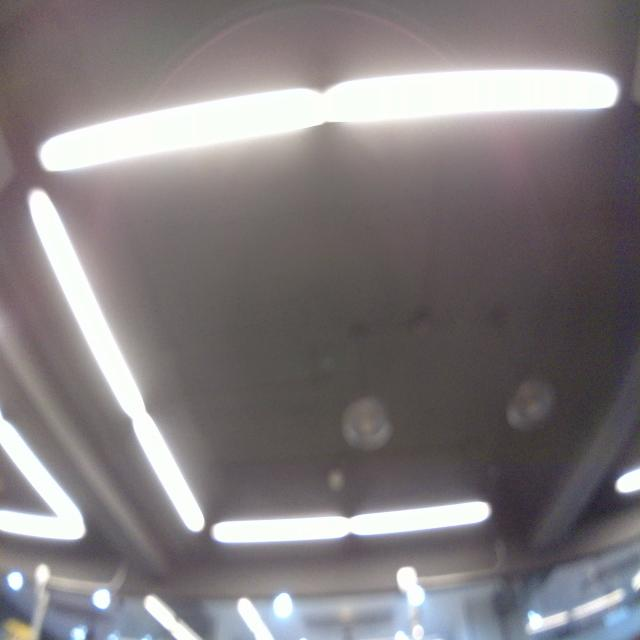lamp2_on: (23, 61, 630, 185), (15, 189, 210, 540), (211, 493, 498, 543)
